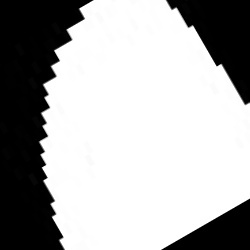spot: (38, 2, 248, 248)
